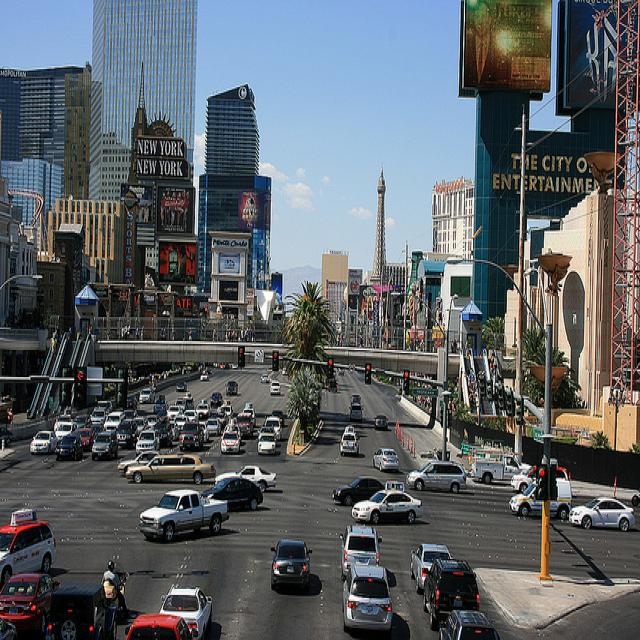motor: (101, 561, 129, 624)
